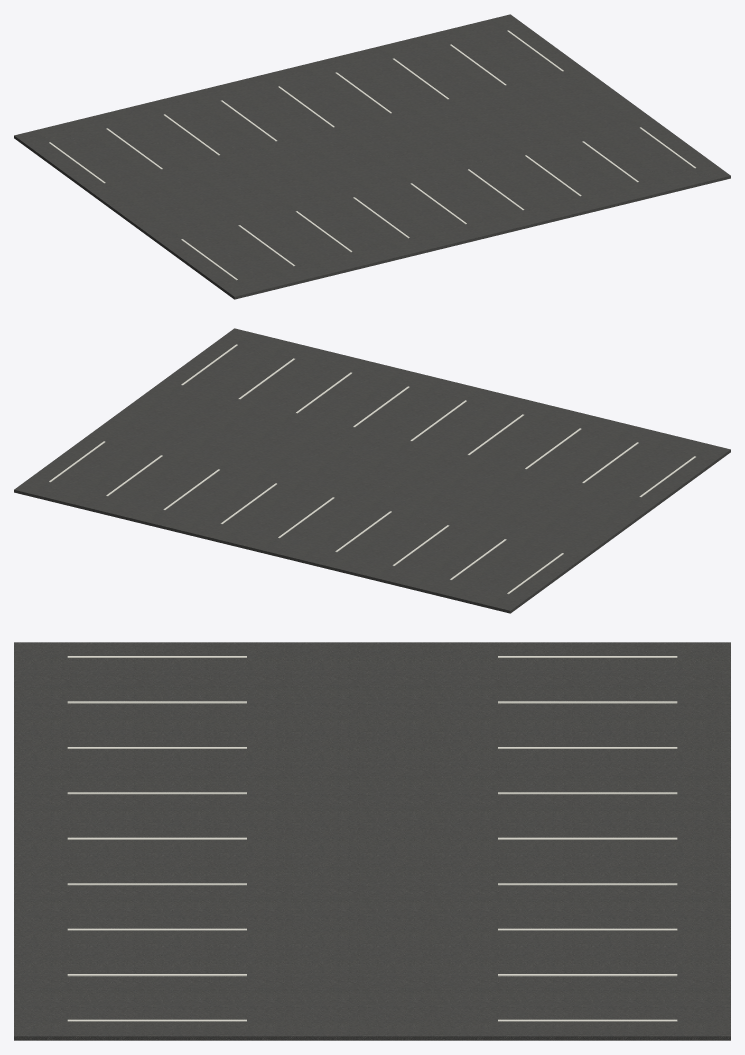
File: parking_lot.glb
3 renders of one model, top to bottom at view 1: azimuth 30°, elevation 25°; view 2: azimuth 150°, elevation 25°; view 3: azimuth 270°, elevation 25°, orthographic. The views are drawn at different scales.
Parts seen in each view (by area): view 1: parking_lot; view 2: parking_lot; view 3: parking_lot.
Boxes of the visible parts, x1=… form: parking_lot: x1=14, y1=14, x2=730, y2=299; parking_lot: x1=14, y1=328, x2=730, y2=613; parking_lot: x1=14, y1=642, x2=730, y2=1040.
Bounding box in the file's own units: 26 × 0.164 × 20.
